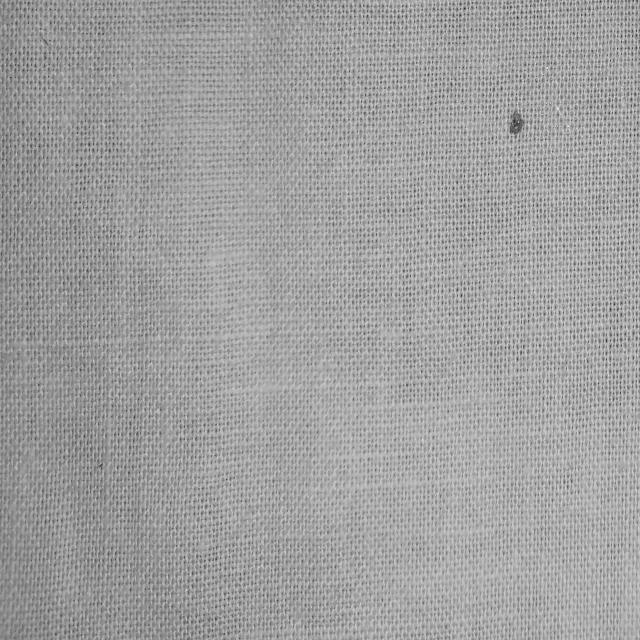Stain: (510, 109, 526, 136)
